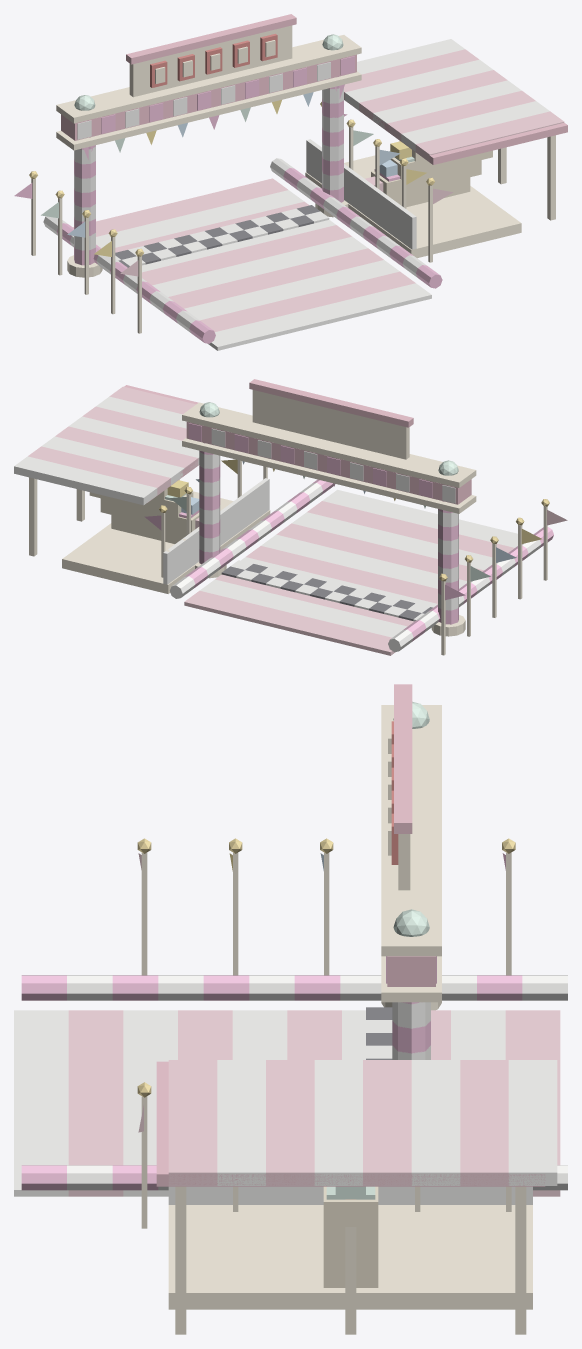
Rendered from zavodni_draha.glb.
The picture shows the model from 3 angles, top to bottom: view 1: azimuth 30°, elevation 25°; view 2: azimuth 150°, elevation 25°; view 3: azimuth 270°, elevation 25°; orthographic projection. The views are drawn at different scales.
Parts seen in each view (by area): view 1: ZavodniDraha_white, ZavodniDraha_pink, ZavodniDraha_cream, ZavodniDraha_lol, ZavodniDraha_pink2, ZavodniDraha_sand, ZavodniDraha_dark, ZavodniDraha_red2, ZavodniDraha_mint, ZavodniDraha_yellow, ZavodniDraha_blue, ZavodniDraha_gold; view 2: ZavodniDraha_white, ZavodniDraha_cream, ZavodniDraha_pink, ZavodniDraha_lol, ZavodniDraha_pink2, ZavodniDraha_sand, ZavodniDraha_dark, ZavodniDraha_mint, ZavodniDraha_yellow, ZavodniDraha_gold, ZavodniDraha_blue; view 3: ZavodniDraha_white, ZavodniDraha_cream, ZavodniDraha_pink, ZavodniDraha_lol, ZavodniDraha_pink2, ZavodniDraha_sand, ZavodniDraha_mint, ZavodniDraha_gold.
Part boxes in pixels (x1,y1,x2,y2): ZavodniDraha_white: [43, 39, 549, 350]; ZavodniDraha_pink: [73, 49, 564, 331]; ZavodniDraha_cream: [31, 25, 555, 333]; ZavodniDraha_lol: [14, 56, 442, 343]; ZavodniDraha_pink2: [61, 14, 567, 164]; ZavodniDraha_sand: [371, 150, 492, 207]; ZavodniDraha_dark: [115, 205, 319, 267]; ZavodniDraha_red2: [150, 33, 277, 87]; ZavodniDraha_mint: [41, 34, 414, 218]; ZavodniDraha_yellow: [94, 100, 426, 256]; ZavodniDraha_blue: [67, 92, 400, 237]; ZavodniDraha_gold: [29, 102, 434, 256]; ZavodniDraha_white: [14, 396, 541, 652]; ZavodniDraha_cream: [29, 390, 547, 655]; ZavodniDraha_pink: [28, 386, 567, 655]; ZavodniDraha_lol: [144, 423, 553, 641]; ZavodniDraha_pink2: [124, 379, 471, 504]; ZavodniDraha_sand: [89, 479, 199, 543]; ZavodniDraha_dark: [221, 564, 432, 620]; ZavodniDraha_mint: [165, 402, 490, 581]; ZavodniDraha_yellow: [167, 459, 541, 543]; ZavodniDraha_gold: [159, 486, 549, 581]; ZavodniDraha_blue: [181, 461, 516, 562]; ZavodniDraha_white: [14, 975, 567, 1204]; ZavodniDraha_cream: [141, 705, 532, 1334]; ZavodniDraha_pink: [68, 853, 560, 1196]; ZavodniDraha_lol: [21, 853, 522, 1190]; ZavodniDraha_pink2: [156, 684, 545, 1186]; ZavodniDraha_sand: [323, 1186, 378, 1287]; ZavodniDraha_mint: [326, 701, 429, 1199]; ZavodniDraha_gold: [137, 838, 515, 1097].
Size of the model in its own units: 14.8 by 6.42 by 9.12.
